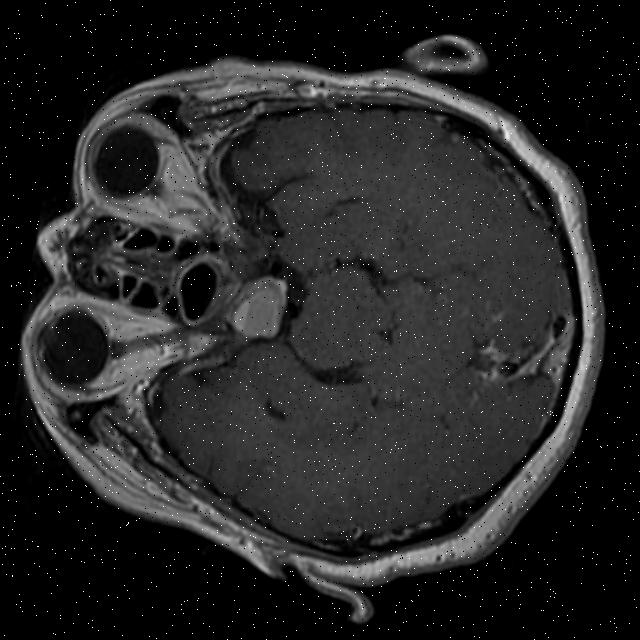Pituitary: (225, 268, 292, 343)
